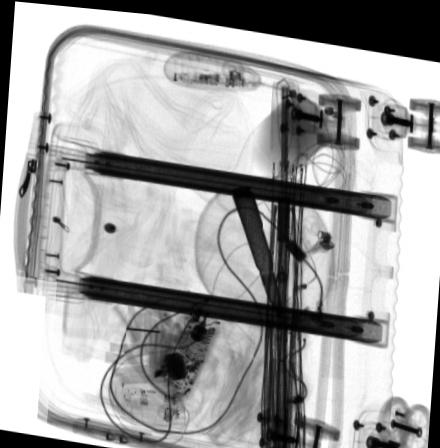Bullet: (230, 179, 282, 313)
